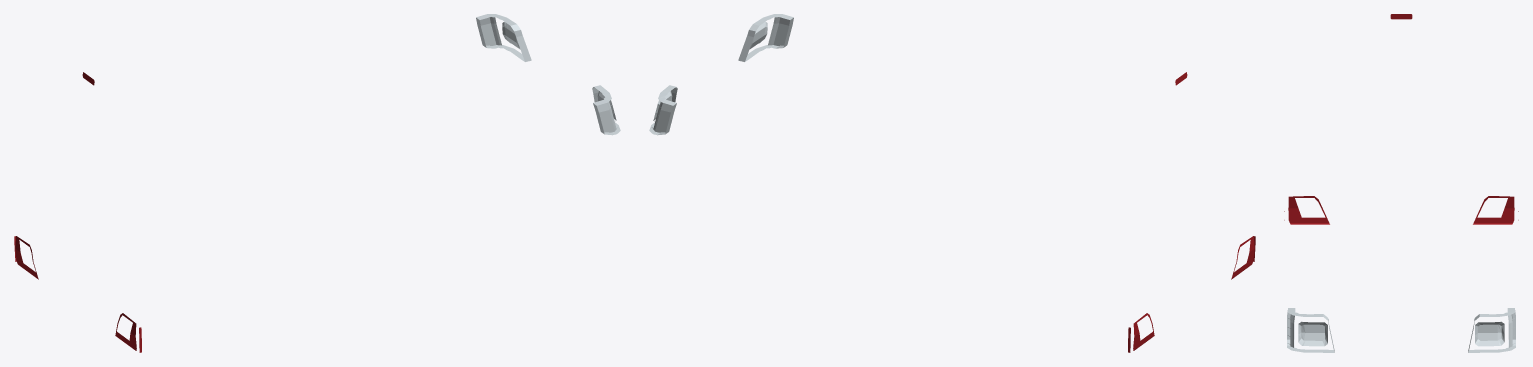
File: kei-hijet-s700-59037e70-lamps.glb
The picture shows the model from 3 angles, left to right: view 1: azimuth 30°, elevation 25°; view 2: azimuth 150°, elevation 25°; view 3: azimuth 270°, elevation 25°; orthographic projection. The views are drawn at different scales.
Visible parts, largest first — view 1: Left_Lamp_Return, Left_Indicator_Reflector; view 2: Right_Lamp_Return, Right_Indicator_Reflector; view 3: Left_Headlight_Reflector, Right_Headlight_Reflector, Left_Tail_Lens, Right_Tail_Lens, Left_Lamp_Return, Right_Lamp_Return.
Part boxes in pixels (bbox=[...]): Left_Lamp_Return: bbox=[476, 14, 531, 61]; Left_Indicator_Reflector: bbox=[480, 17, 501, 45]; Right_Lamp_Return: bbox=[738, 14, 793, 61]; Right_Indicator_Reflector: bbox=[768, 17, 789, 45]; Left_Headlight_Reflector: bbox=[1475, 321, 1504, 346]; Right_Headlight_Reflector: bbox=[1298, 321, 1327, 346]; Left_Tail_Lens: bbox=[1473, 196, 1514, 224]; Right_Tail_Lens: bbox=[1288, 196, 1329, 224]; Left_Lamp_Return: bbox=[1468, 308, 1515, 352]; Right_Lamp_Return: bbox=[1287, 308, 1334, 352].
Size of the model in its own units: 3.36 by 1.5 by 1.48.
